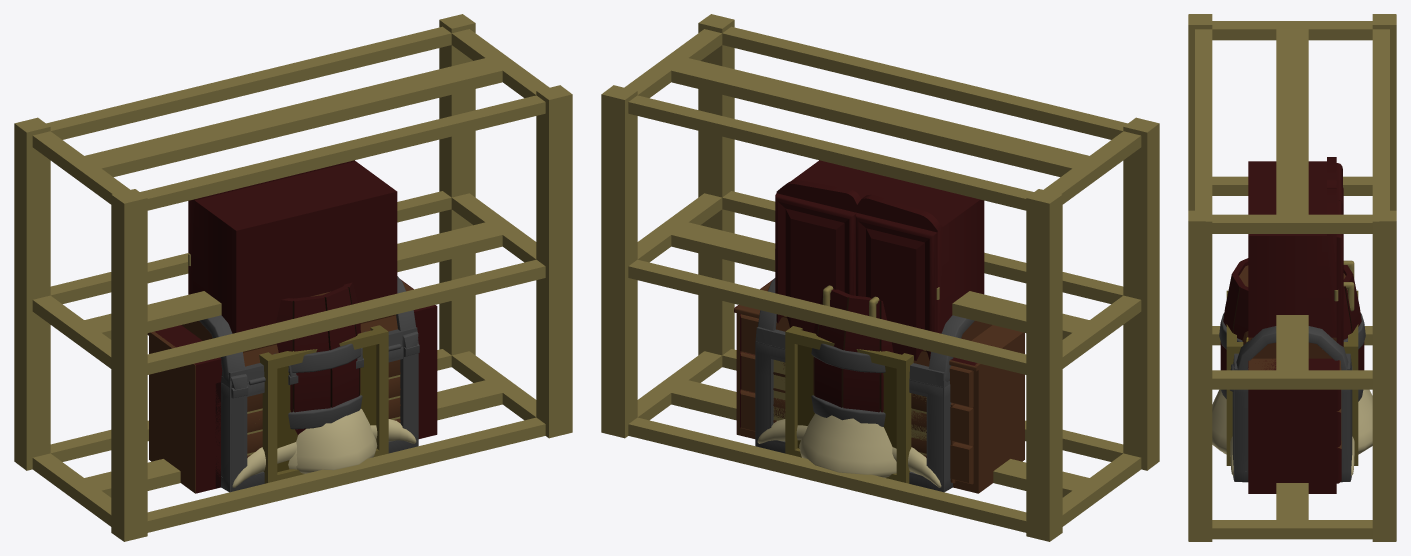
Rendered from Containers.fbx.
3 renders of one model, left to right at view 1: azimuth 30°, elevation 25°; view 2: azimuth 150°, elevation 25°; view 3: azimuth 270°, elevation 25°, orthographic. The views are drawn at different scales.
Visible parts, largest first — view 1: BarrelRack01, Wardrobe01A-Main, Barrel01, Crate01, Dresser01-Main, Chest01L, Dresser02-Main, Sack02, Chest01L- Lid, Sack03, Chest02L, Chest02L-Lid; view 2: BarrelRack01, Wardrobe01A-Main, Wardrobe01A-RDoor, Wardrobe01A-LDoor, Dresser02-Main, Barrel01, Crate01, Chest01L, Sack02, Dresser02-Shell, Chest02L, Chest01L- Lid (+2 smaller); view 3: BarrelRack01, Wardrobe01A-Main, Dresser01-Main, Barrel01, Chest01L- Lid, Chest01L, Crate01, Sack02, Wardrobe01A-LDoor, Chest02L, Wardrobe01A-RDoor, Dresser02-Main (+1 smaller).
Part boxes in pixels (x1,y1,x2,y2): BarrelRack01: [14, 14, 572, 541]; Wardrobe01A-Main: [188, 160, 397, 333]; Barrel01: [274, 282, 365, 434]; Crate01: [259, 325, 388, 483]; Dresser01-Main: [154, 279, 437, 493]; Chest01L: [221, 343, 419, 491]; Dresser02-Main: [149, 281, 413, 493]; Sack02: [296, 409, 377, 473]; Chest01L- Lid: [181, 276, 418, 389]; Sack03: [232, 419, 416, 487]; Chest02L: [221, 341, 418, 492]; Chest02L-Lid: [221, 327, 418, 386]; BarrelRack01: [601, 14, 1159, 541]; Wardrobe01A-Main: [775, 160, 984, 333]; Wardrobe01A-RDoor: [855, 213, 937, 360]; Wardrobe01A-LDoor: [775, 193, 856, 332]; Dresser02-Main: [734, 281, 1024, 493]; Barrel01: [811, 287, 893, 426]; Crate01: [785, 326, 913, 483]; Chest01L: [756, 342, 952, 491]; Sack02: [799, 413, 896, 477]; Dresser02-Shell: [737, 313, 1024, 484]; Chest02L: [755, 341, 952, 492]; Chest01L- Lid: [758, 278, 992, 382]; BarrelRack01: [1188, 14, 1396, 541]; Wardrobe01A-Main: [1248, 157, 1338, 339]; Dresser01-Main: [1248, 358, 1339, 493]; Barrel01: [1219, 258, 1365, 401]; Chest01L- Lid: [1230, 326, 1348, 370]; Chest01L: [1230, 389, 1352, 481]; Crate01: [1226, 290, 1358, 465]; Sack02: [1212, 389, 1372, 454]; Wardrobe01A-LDoor: [1336, 200, 1354, 346]; Chest02L: [1234, 366, 1352, 482]; Wardrobe01A-RDoor: [1336, 163, 1354, 278]; Dresser02-Main: [1248, 358, 1340, 370].
Bounding box in the file's own units: 3.4 × 2.78 × 1.44.
